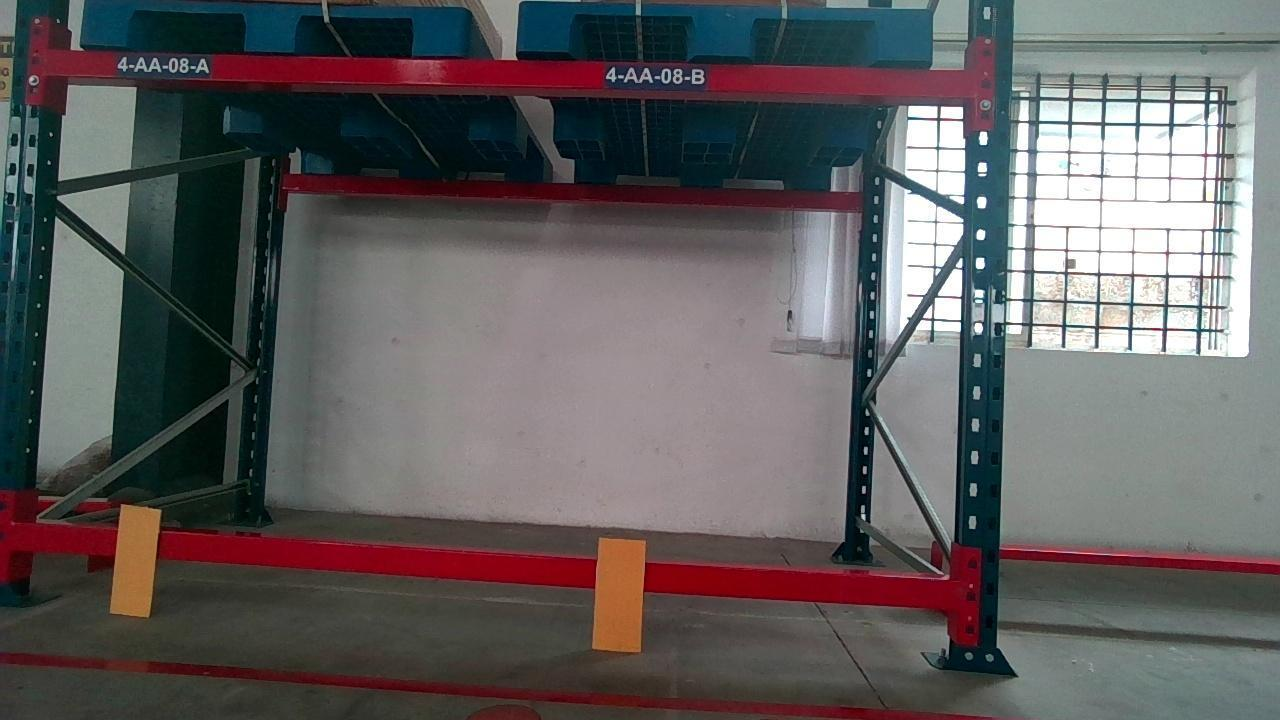h_rack: (0, 525, 954, 606), (51, 48, 979, 100)
orange_strip: (593, 536, 645, 651), (109, 504, 158, 613)
red_line: (0, 651, 985, 720)
small_pallet: (514, 0, 951, 62), (86, 1, 461, 53)
